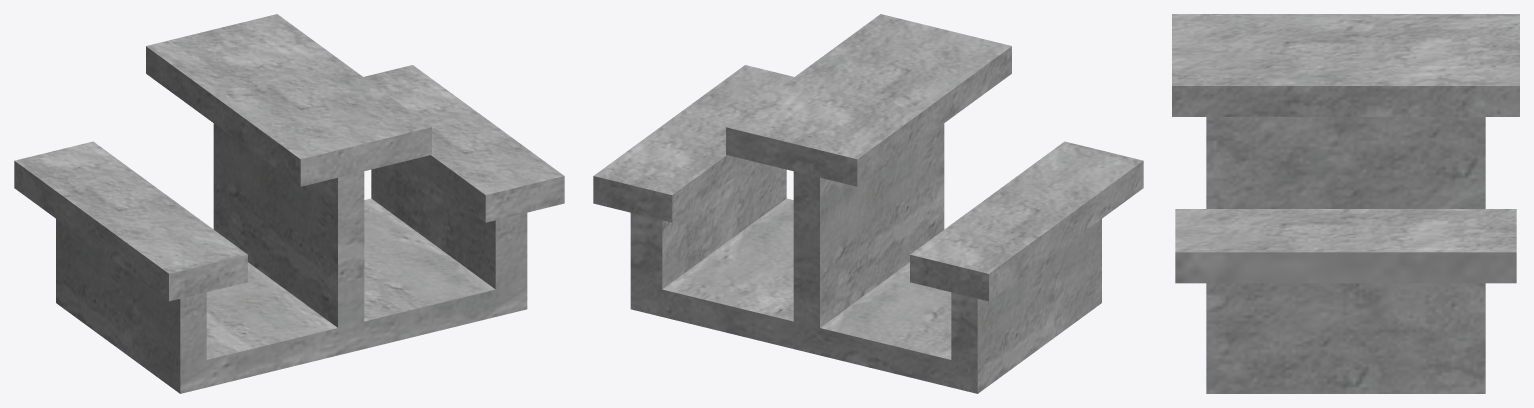
The model's file is cafeteriaTable.fbx.
3 renders of one model, left to right at view 1: azimuth 30°, elevation 25°; view 2: azimuth 150°, elevation 25°; view 3: azimuth 270°, elevation 25°, orthographic. The views are drawn at different scales.
Visible parts, largest first — view 1: Cube; view 2: Cube; view 3: Cube.
Boxes of the visible parts, box(x1,y1,x2,y2) form: Cube: box(14, 14, 564, 393); Cube: box(593, 14, 1143, 393); Cube: box(1172, 14, 1519, 393).
Bounding box in the file's own units: 1510 × 800 × 1020.
